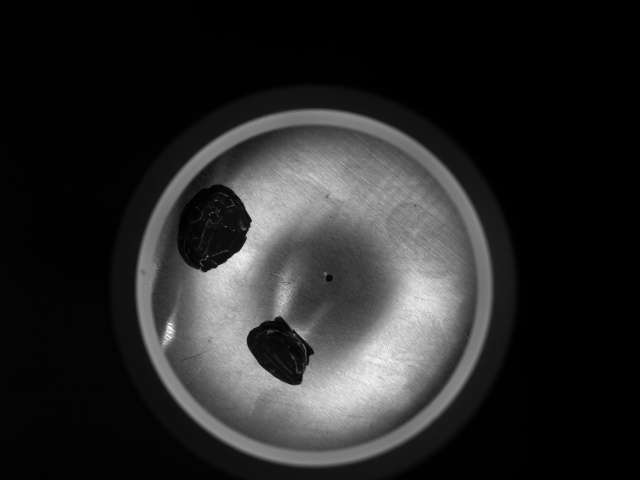zang_wu: (173, 181, 254, 274), (246, 314, 316, 389)
zhen_kong: (322, 267, 335, 286)
